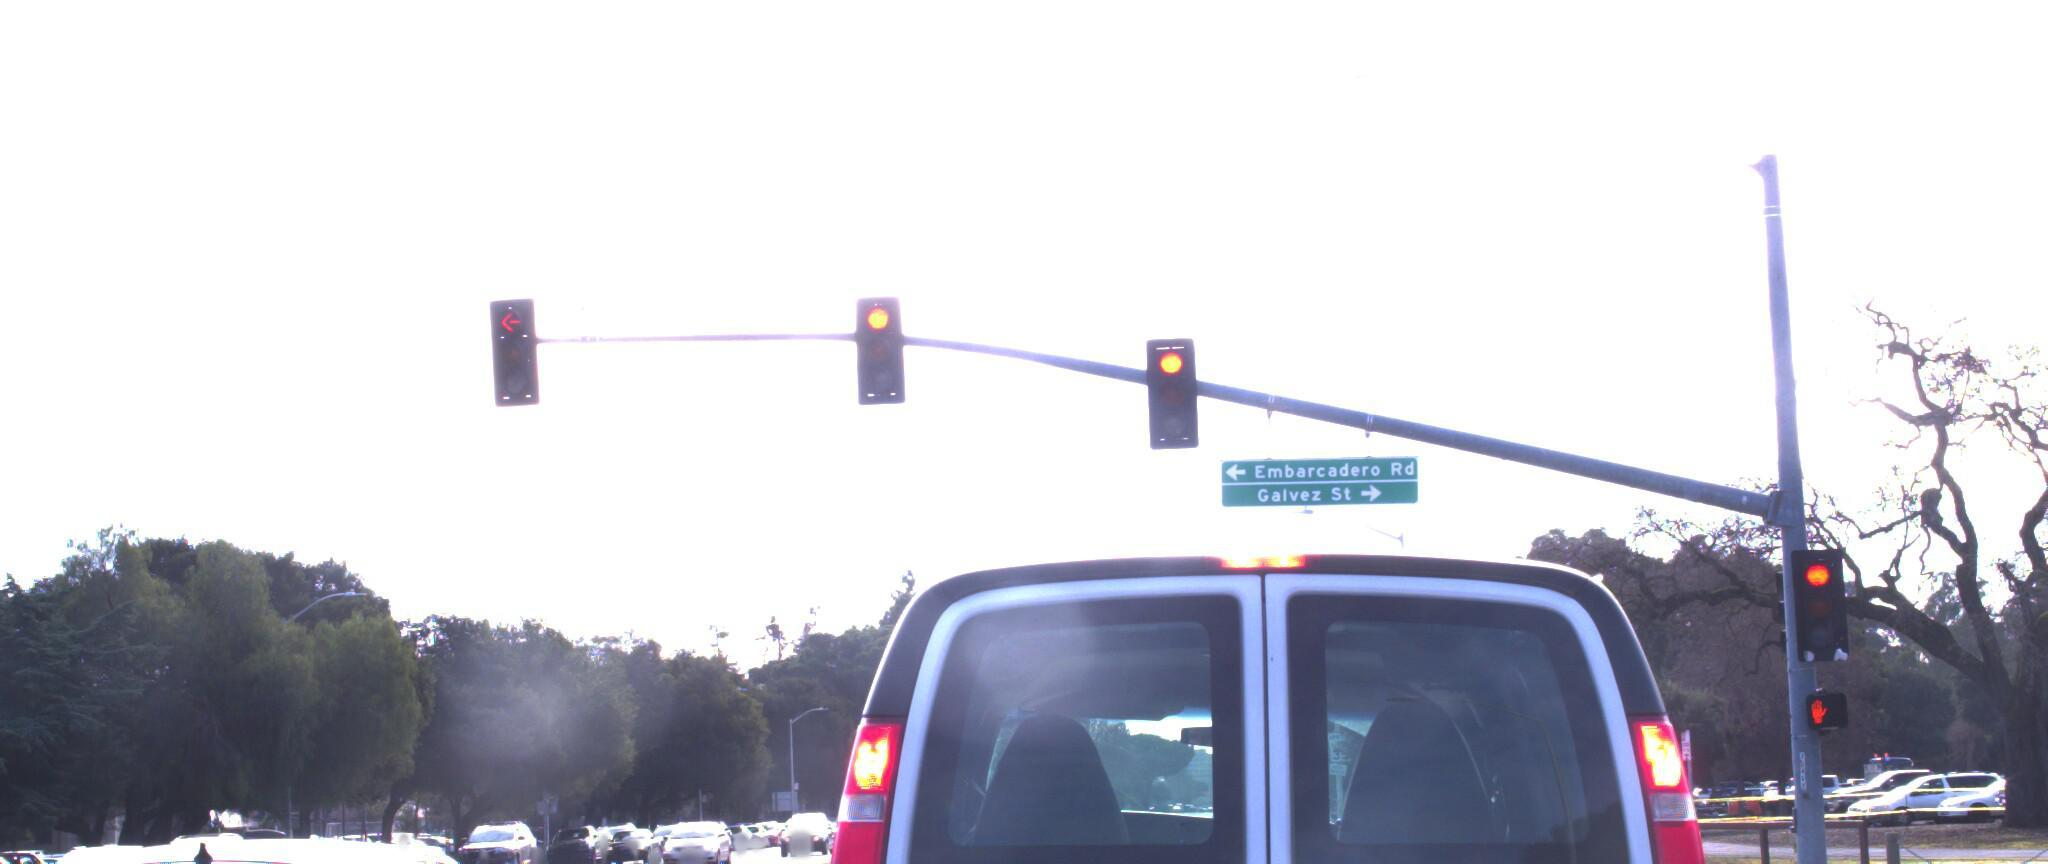car: (748, 535, 1776, 864), (0, 790, 647, 864), (7, 807, 193, 864)
